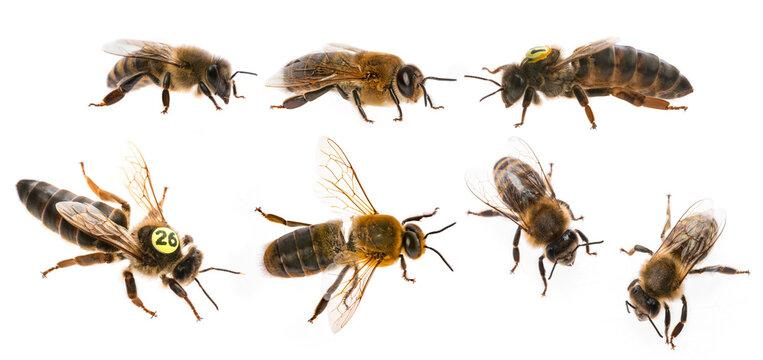Queen-Bee: (11, 144, 218, 338), (469, 24, 724, 143)
